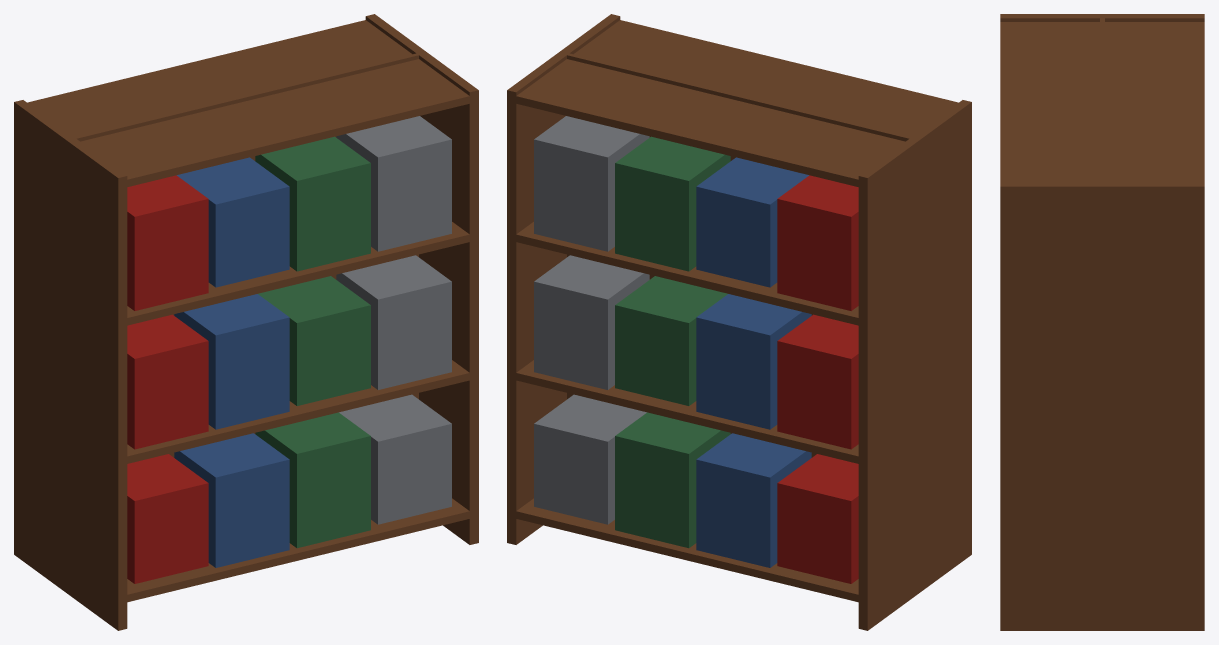
File: school.library.shelf_low.glb
3 renders of one model, left to right at view 1: azimuth 30°, elevation 25°; view 2: azimuth 150°, elevation 25°; view 3: azimuth 270°, elevation 25°, orthographic.
Parts seen in each view (by area): view 1: main__hardwood, main__fabric_green, main__fabric_blue, main__fabric_grey, main__fabric_red; view 2: main__hardwood, main__fabric_green, main__fabric_blue, main__fabric_grey, main__fabric_red; view 3: main__hardwood.
Part boxes in pixels (x1,y1,x2,y2): main__hardwood: [14, 14, 478, 630]; main__fabric_green: [255, 136, 370, 548]; main__fabric_blue: [174, 157, 289, 567]; main__fabric_grey: [336, 116, 451, 524]; main__fabric_red: [127, 175, 208, 583]; main__hardwood: [507, 14, 971, 630]; main__fabric_green: [615, 136, 730, 548]; main__fabric_blue: [696, 157, 811, 567]; main__fabric_grey: [534, 116, 649, 524]; main__fabric_red: [777, 175, 858, 583]; main__hardwood: [1000, 14, 1204, 630].
Size of the model in its own units: 1 by 1.2 by 0.5.
